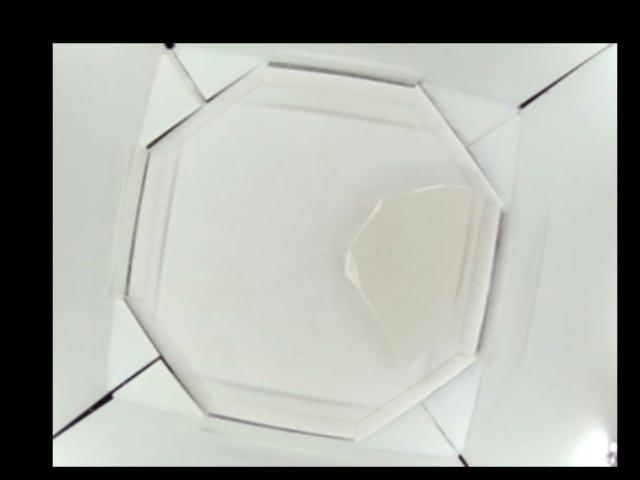China: (345, 180, 470, 373)
